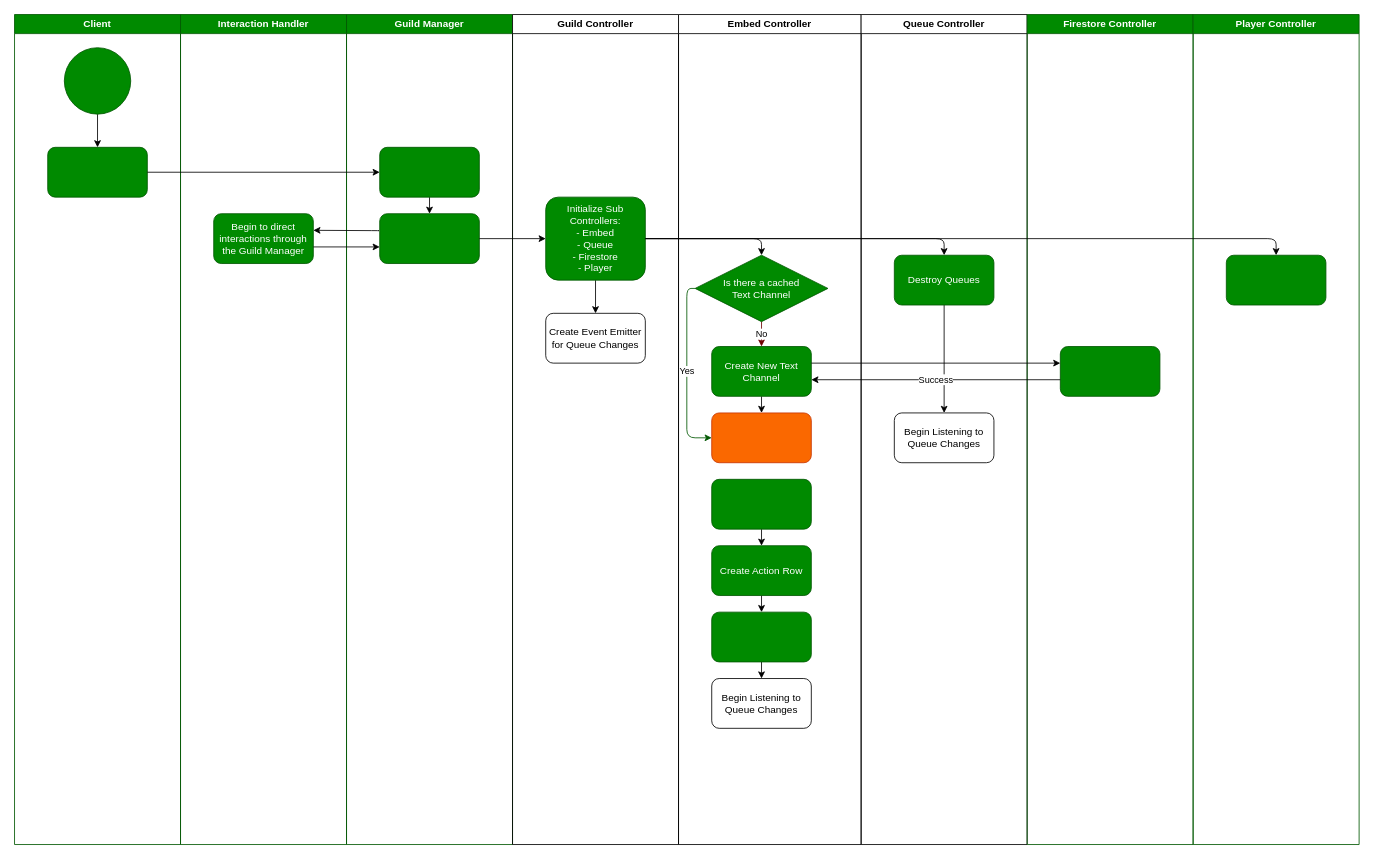
The diagram is 1374 pixels wide and 859 high, and some of its shapes have lost their labels. Each missing label, with the centre of its shape:
"Clear Text Channel" goes at (761,437).
"Create AudioPlayer" goes at (1275,279).
"Create Empty Embed" goes at (761,503).
"Initialize GuildController Map" goes at (429,171).
"Run Tests" goes at (97,171).
"Send default embed to textChannel" goes at (761,636).
"START" goes at (97,80).
"Update Cached Text Channel" goes at (1109,371).
"Validate Map against cached guilds in client and firestore" goes at (429,238).
